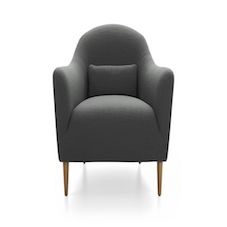chair: (43, 15, 179, 198)
